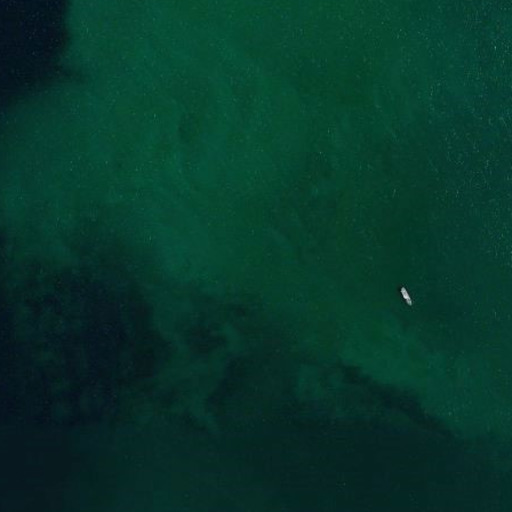ship: (396, 284, 415, 309)
